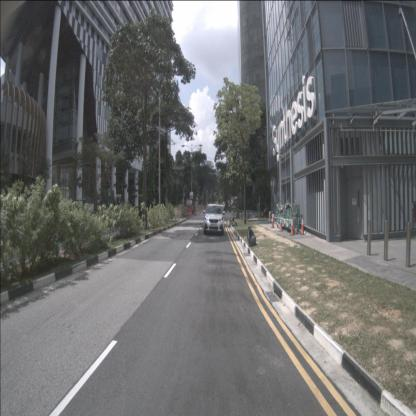movable_object-barrier: (187, 207, 192, 215), (194, 207, 197, 216), (196, 207, 199, 215)
movable_object-trafficcone: (290, 218, 295, 236), (300, 216, 304, 235), (279, 218, 284, 232), (268, 212, 272, 224), (271, 216, 274, 228)
vehicle-car: (203, 204, 224, 235)
